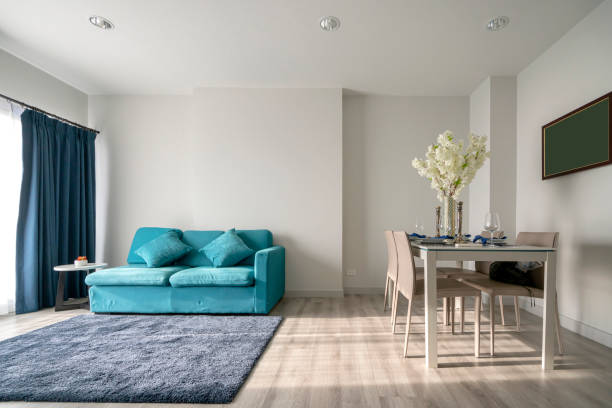dining table set: (383, 228, 565, 369)
flower vase: (410, 128, 490, 238)
side table: (49, 261, 108, 314)
sofa: (84, 224, 287, 316)
wall art: (538, 89, 612, 181)
